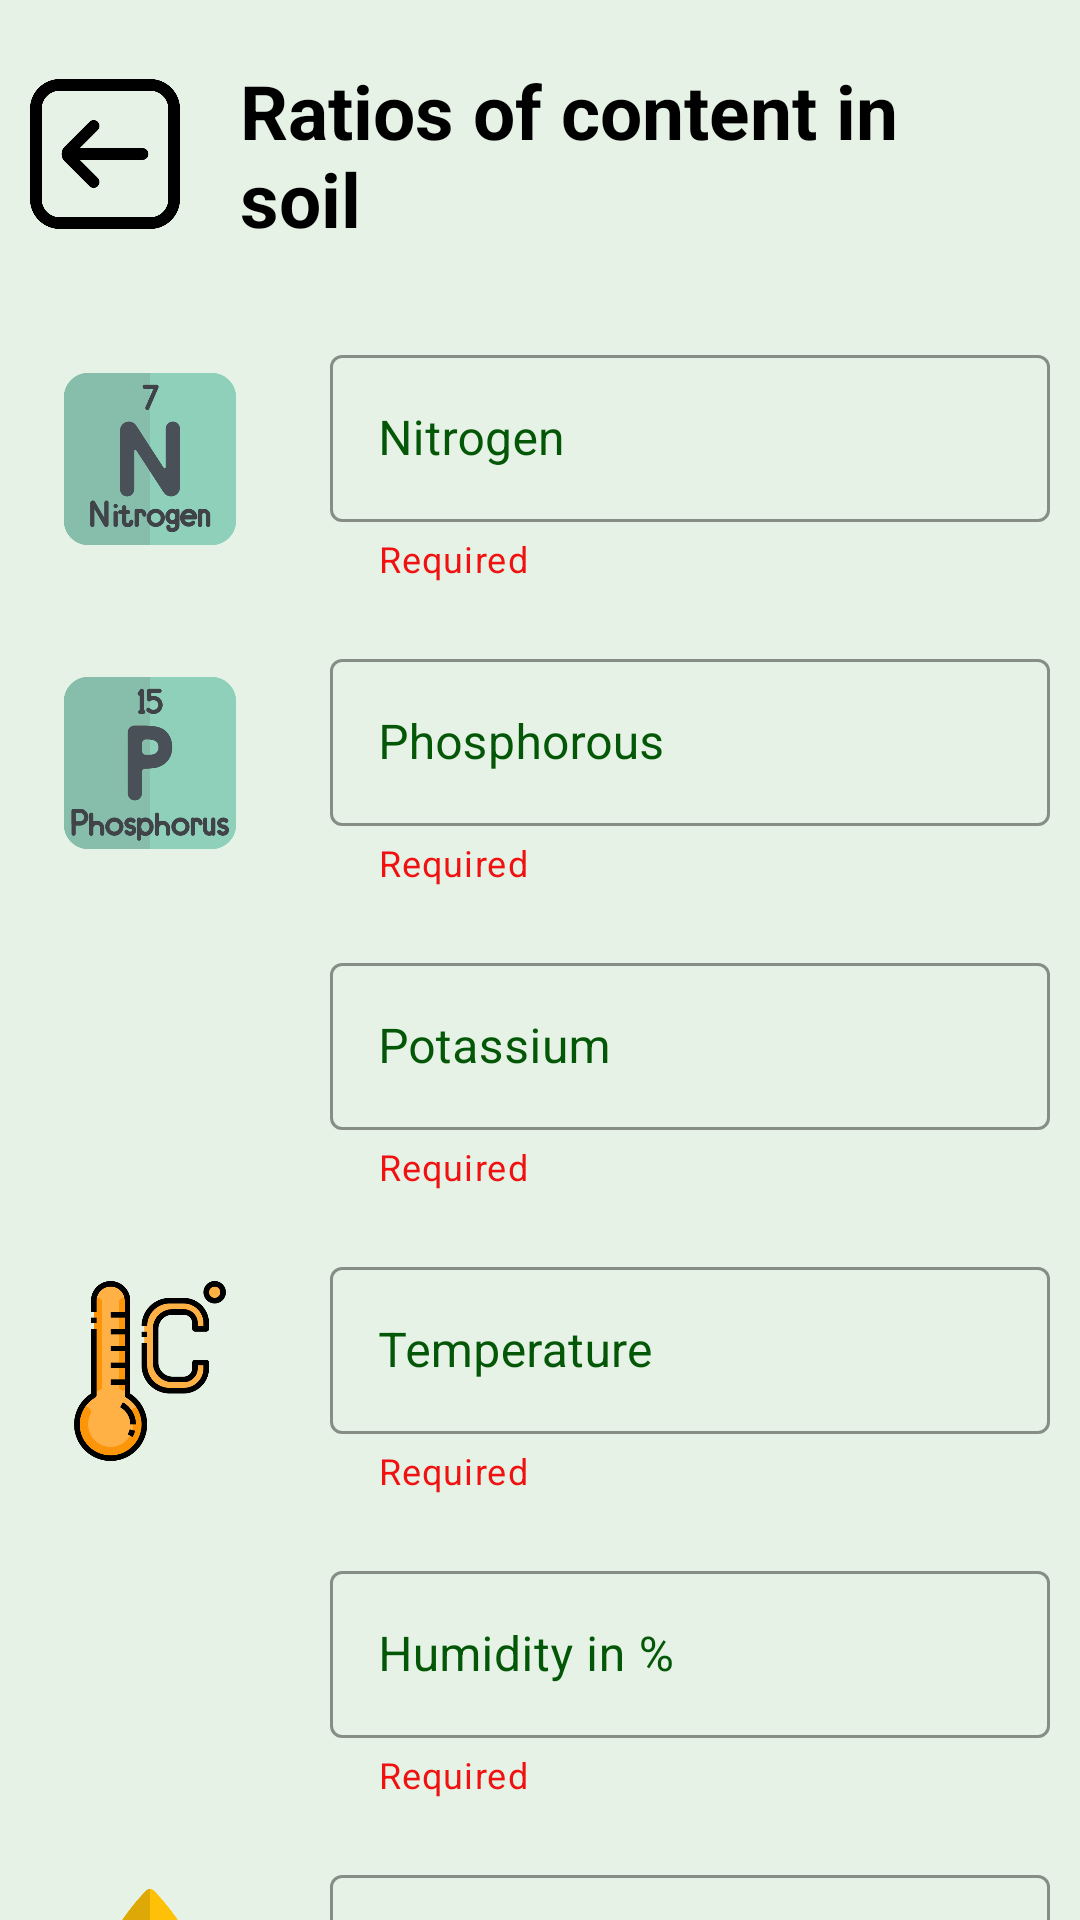

Icon click points for this 1080 × 1920 phone screenshot, format (x=x, y=y):
back: (x=105, y=154)
celsius: (x=150, y=1371)
